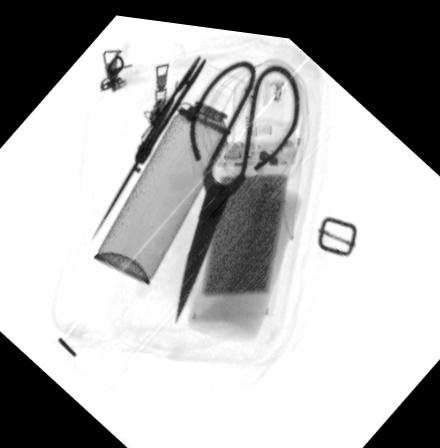Knife: (91, 46, 209, 238)
Powerbank: (186, 131, 306, 317)
Scissors: (172, 49, 302, 323)
Sprayer: (93, 57, 253, 281)
